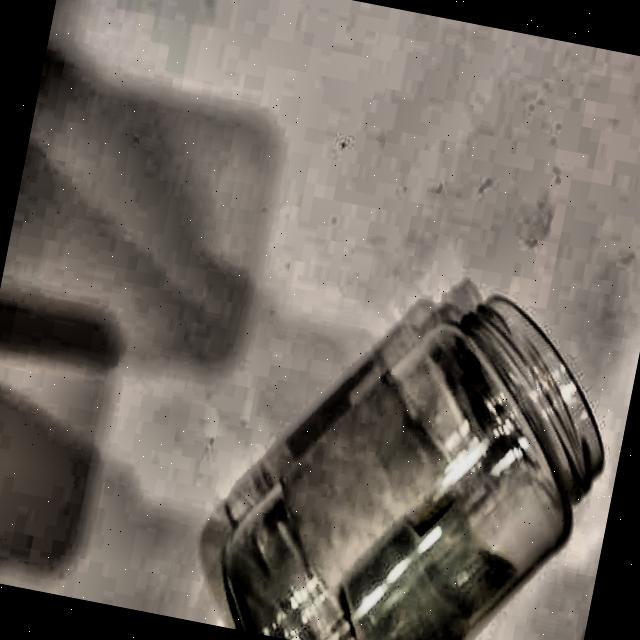glass: (194, 250, 632, 640)
